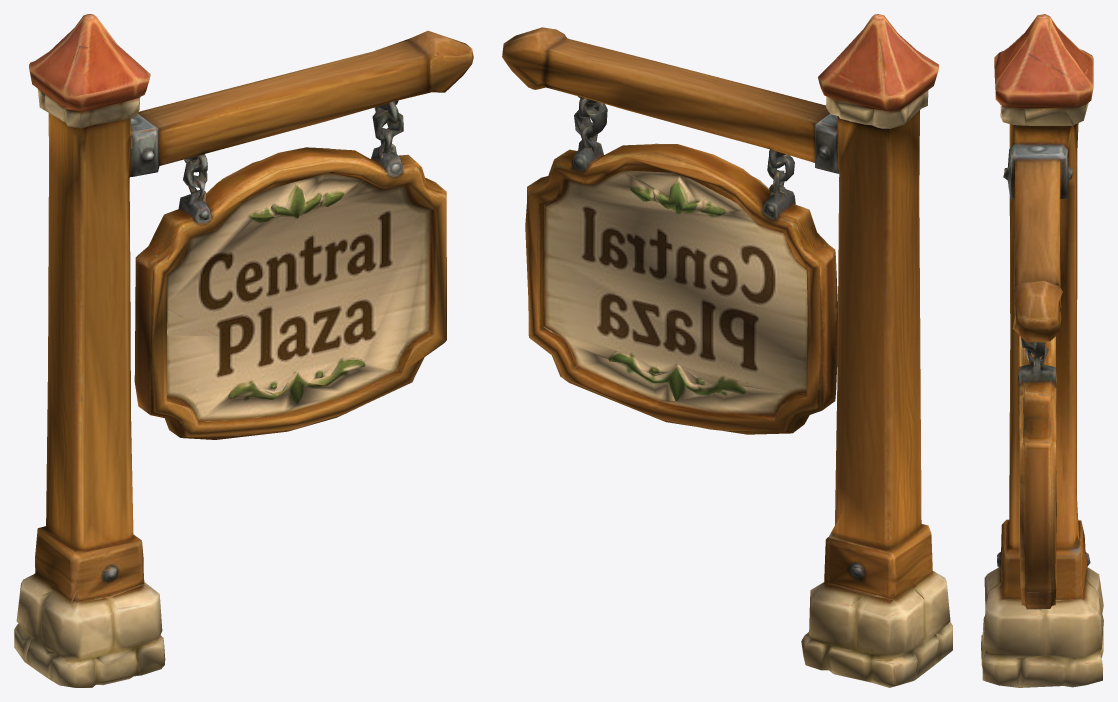
Rendered from sign-plaza.glb.
The picture shows the model from 3 angles, left to right: view 1: azimuth 30°, elevation 25°; view 2: azimuth 150°, elevation 25°; view 3: azimuth 270°, elevation 25°; orthographic projection.
Parts seen in each view (by area): view 1: Mesh1.0; view 2: Mesh1.0; view 3: Mesh1.0.
Part boxes in pixels (x1,y1,x2,y2): Mesh1.0: [14, 14, 473, 687]; Mesh1.0: [502, 14, 952, 687]; Mesh1.0: [981, 14, 1103, 687].
Bounding box in the file's own units: 1.32 × 1.9 × 0.326.
Materials: 1 (1 with a texture image).
